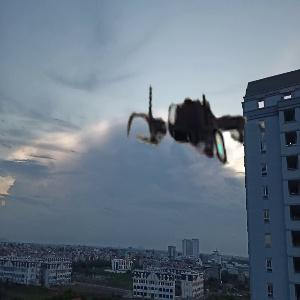drone: (122, 62, 273, 213)
